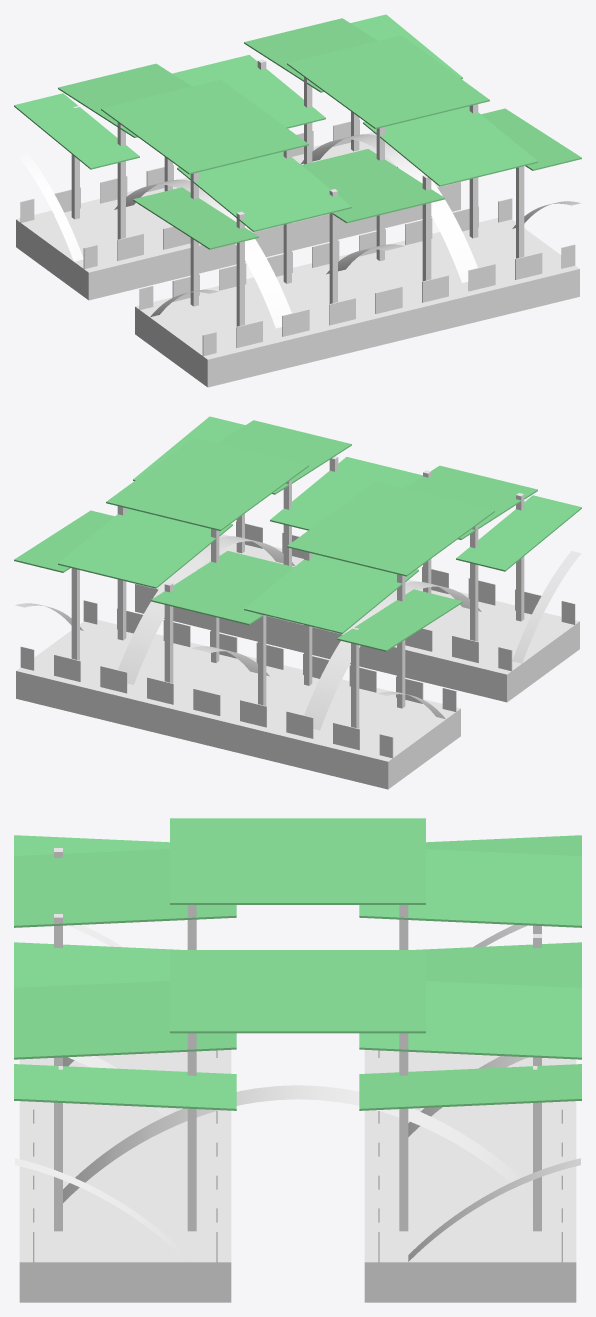
Rendered from xxf.glb.
3 views of the same model, one above another, from view 1: azimuth 30°, elevation 25°; view 2: azimuth 150°, elevation 25°; view 3: azimuth 270°, elevation 25° (orthographic). The views are drawn at different scales.
Visible parts, largest first — view 1: roof, site, block, column, path; view 2: roof, site, block, column, path; view 3: roof, site, path, column, block.
Part boxes in pixels (left/top/right/bottom): roof: left=14, top=14, right=581, bottom=249; site: left=16, top=132, right=579, bottom=387; block: left=20, top=119, right=575, bottom=356; column: left=71, top=59, right=524, bottom=326; path: left=14, top=134, right=580, bottom=328; roof: left=14, top=416, right=581, bottom=651; site: left=16, top=534, right=579, bottom=789; block: left=20, top=521, right=575, bottom=758; column: left=71, top=456, right=524, bottom=728; path: left=15, top=536, right=581, bottom=730; roof: left=14, top=818, right=581, bottom=1110; site: left=19, top=1050, right=576, bottom=1302; path: left=15, top=925, right=580, bottom=1261; column: left=54, top=848, right=541, bottom=1231; block: left=33, top=1050, right=562, bottom=1262.
Size of the model in its own units: 28.01 by 12.1 by 25.5.
